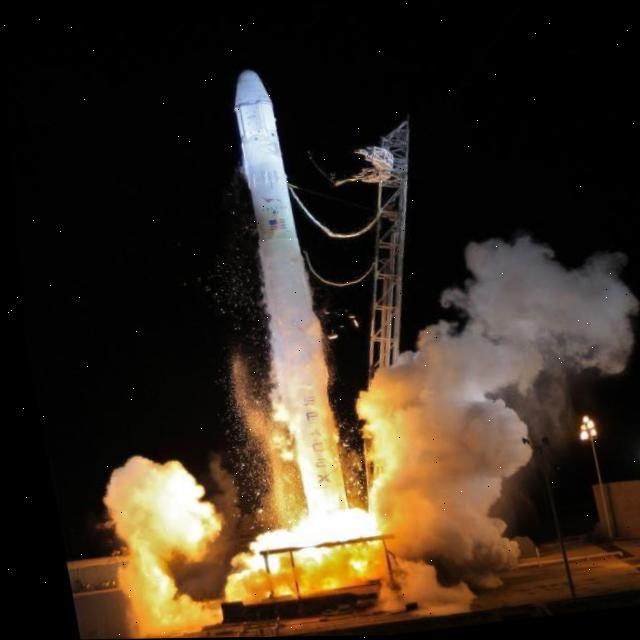missile: (210, 59, 345, 515)
